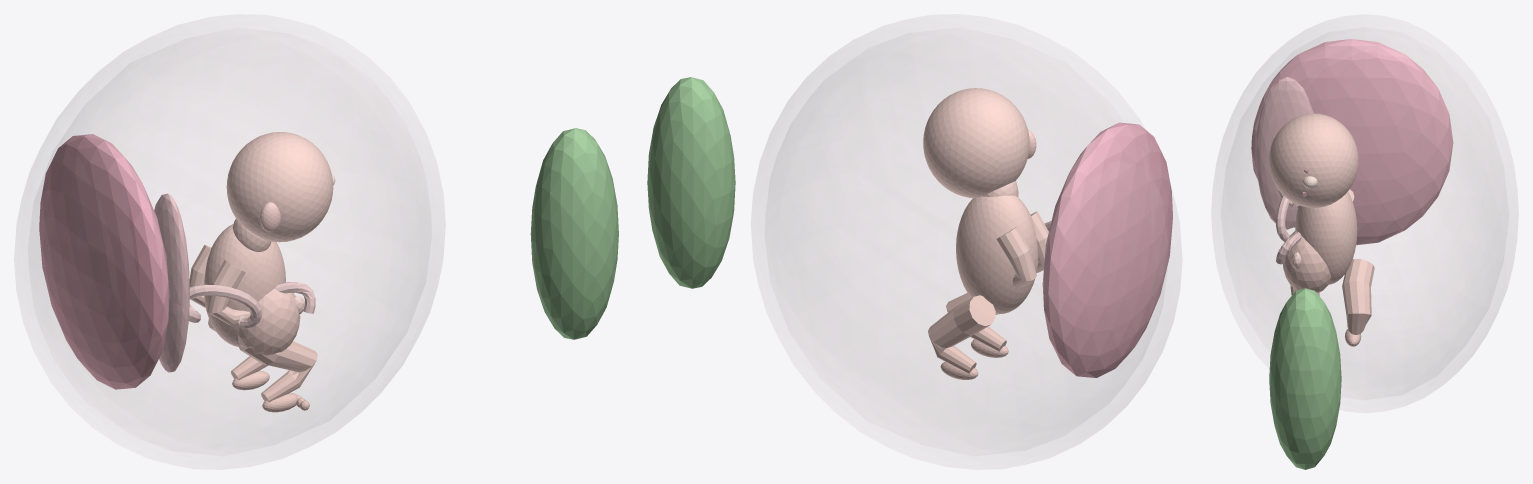
File: hafta_25.glb
The picture shows the model from 3 angles, left to right: view 1: azimuth 30°, elevation 25°; view 2: azimuth 150°, elevation 25°; view 3: azimuth 270°, elevation 25°; orthographic projection. The views are drawn at different scales.
Visible parts, largest first — view 1: Gebelik_kesesi_dis_zar_25, Plasenta_gelisen_doku_27, Sebze_Kabak_29, Bas_1, Gogus_govde_2, Plasenta_yumusak_yuzey_28, Gobel_ve_karin_3, Bacak_on_18, Gobek_kordonu_ogretici_24, Kol_on_11, Kol_on_arka_9; view 2: Gebelik_kesesi_dis_zar_25, Plasenta_gelisen_doku_27, Sebze_Kabak_29, Bas_1, Gogus_govde_2, Bacak_arka_16, Kol_on_arka_9, Bacak_on_18, Kol_on_11; view 3: Gebelik_kesesi_dis_zar_25, Plasenta_gelisen_doku_27, Sebze_Kabak_29, Bas_1, Plasenta_yumusak_yuzey_28, Gogus_govde_2, Bacak_arka_16, Gobel_ve_karin_3, Gobek_kordonu_ogretici_24.
Part boxes in pixels (bbox=[...]): Gebelik_kesesi_dis_zar_25: bbox=[14, 14, 445, 469]; Plasenta_gelisen_doku_27: bbox=[39, 134, 169, 389]; Sebze_Kabak_29: bbox=[530, 128, 618, 339]; Bas_1: bbox=[226, 132, 333, 242]; Gogus_govde_2: bbox=[204, 224, 285, 346]; Plasenta_yumusak_yuzey_28: bbox=[154, 193, 189, 372]; Gobel_ve_karin_3: bbox=[238, 288, 300, 355]; Bacak_on_18: bbox=[238, 341, 317, 402]; Gobek_kordonu_ogretici_24: bbox=[189, 282, 315, 328]; Kol_on_11: bbox=[207, 260, 250, 325]; Kol_on_arka_9: bbox=[189, 244, 210, 307]; Gebelik_kesesi_dis_zar_25: bbox=[751, 14, 1181, 469]; Plasenta_gelisen_doku_27: bbox=[1042, 122, 1172, 377]; Sebze_Kabak_29: bbox=[647, 77, 735, 288]; Bas_1: bbox=[923, 88, 1029, 198]; Gogus_govde_2: bbox=[956, 195, 1038, 314]; Bacak_arka_16: bbox=[928, 295, 995, 373]; Kol_on_arka_9: bbox=[996, 227, 1036, 287]; Bacak_on_18: bbox=[946, 293, 1006, 351]; Kol_on_11: bbox=[1030, 211, 1048, 272]; Gebelik_kesesi_dis_zar_25: bbox=[1211, 14, 1518, 412]; Plasenta_gelisen_doku_27: bbox=[1251, 39, 1453, 245]; Sebze_Kabak_29: bbox=[1269, 288, 1341, 469]; Bas_1: bbox=[1269, 113, 1358, 207]; Plasenta_yumusak_yuzey_28: bbox=[1255, 77, 1313, 229]; Gogus_govde_2: bbox=[1295, 191, 1357, 284]; Bacak_arka_16: bbox=[1342, 259, 1374, 334]; Gobel_ve_karin_3: bbox=[1283, 230, 1330, 292]; Gobek_kordonu_ogretici_24: bbox=[1276, 189, 1301, 264].
Size of the model in its own units: 10.83 by 8.1 by 6.2.
